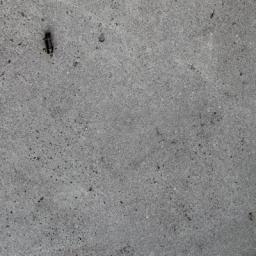FOD: (37, 29, 58, 60)
